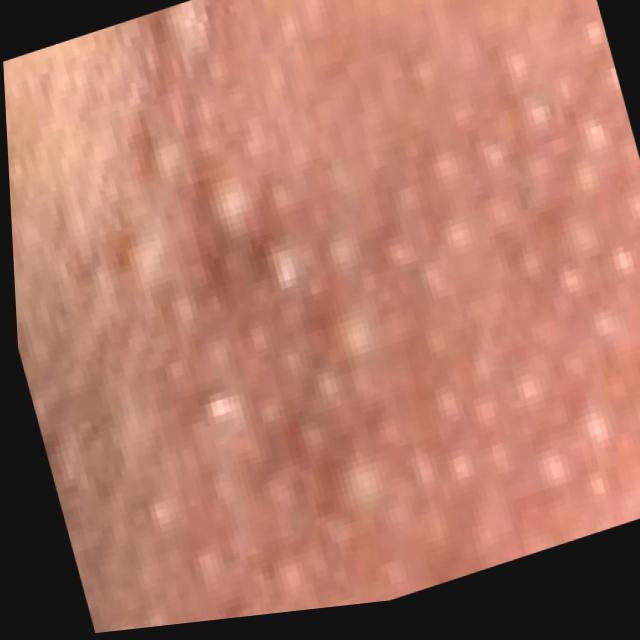whitehead: (6, 0, 640, 631)
